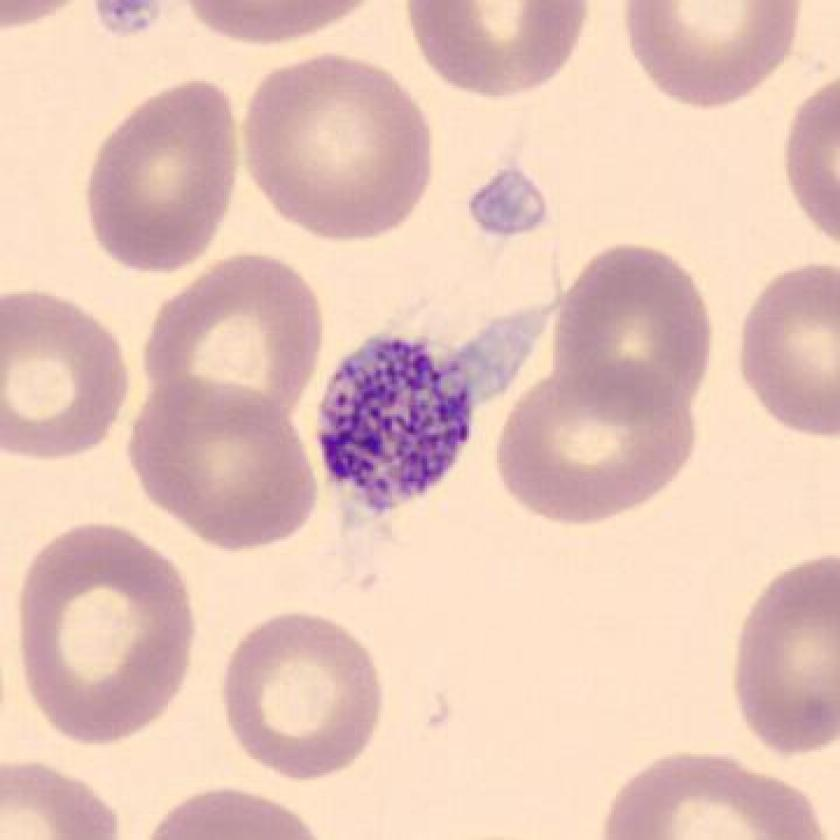platelets: (304, 325, 489, 524)
